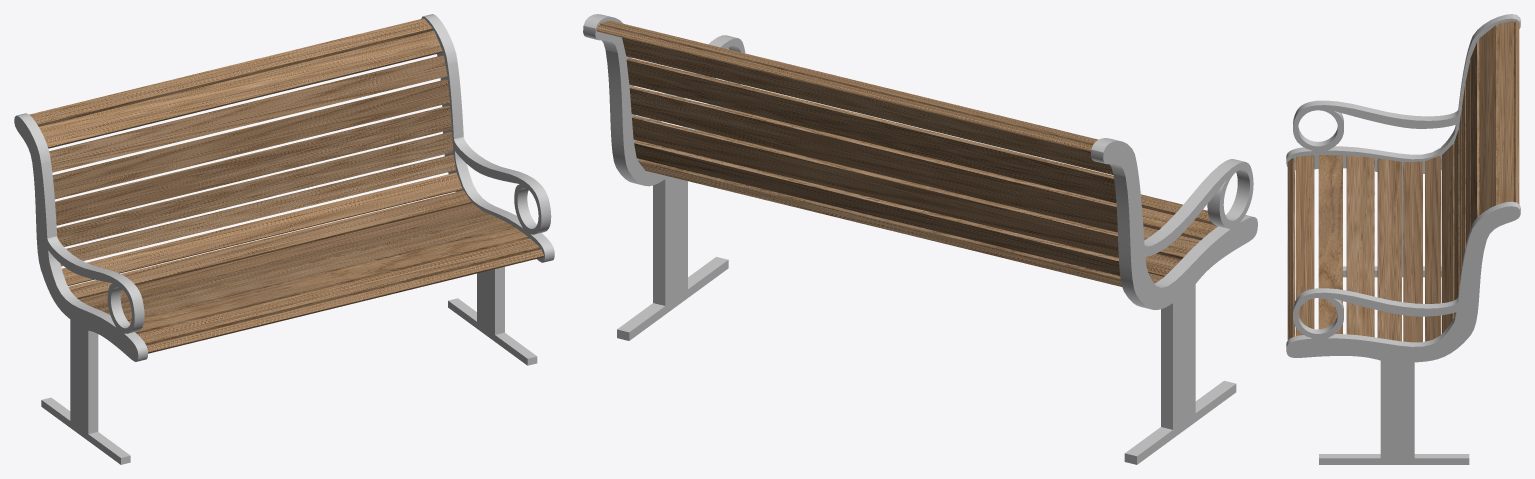
The model's file is bench.obj.
The picture shows the model from 3 angles, left to right: view 1: azimuth 30°, elevation 25°; view 2: azimuth 150°, elevation 25°; view 3: azimuth 270°, elevation 25°; orthographic projection. The views are drawn at different scales.
Visible parts, largest first — view 1: Shape001_Mesh.002, Line002_Mesh.003, Line001_Mesh.004; view 2: Shape001_Mesh.002, Line002_Mesh.003, Line001_Mesh.004; view 3: Shape001_Mesh.002, Line001_Mesh.004, Line002_Mesh.003.
Boxes of the visible parts, <box> form: Shape001_Mesh.002: <box>29,18,543,353</box>; Line002_Mesh.003: <box>14,113,147,464</box>; Line001_Mesh.004: <box>421,14,554,365</box>; Shape001_Mesh.002: <box>596,20,1217,286</box>; Line002_Mesh.003: <box>1091,138,1257,464</box>; Line001_Mesh.004: <box>583,14,745,340</box>; Shape001_Mesh.002: <box>1287,20,1519,342</box>; Line001_Mesh.004: <box>1286,201,1520,464</box>; Line002_Mesh.003: <box>1286,14,1520,277</box>.
Size of the model in its own units: 2.84 by 1.78 by 1.47.
